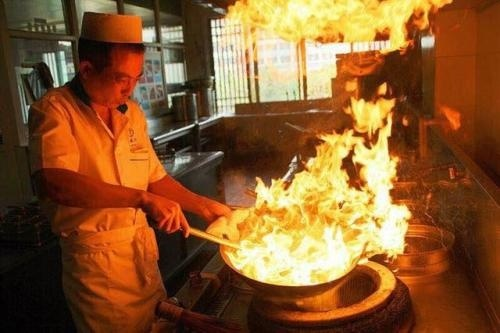fire: (221, 80, 413, 288), (222, 2, 448, 65)
